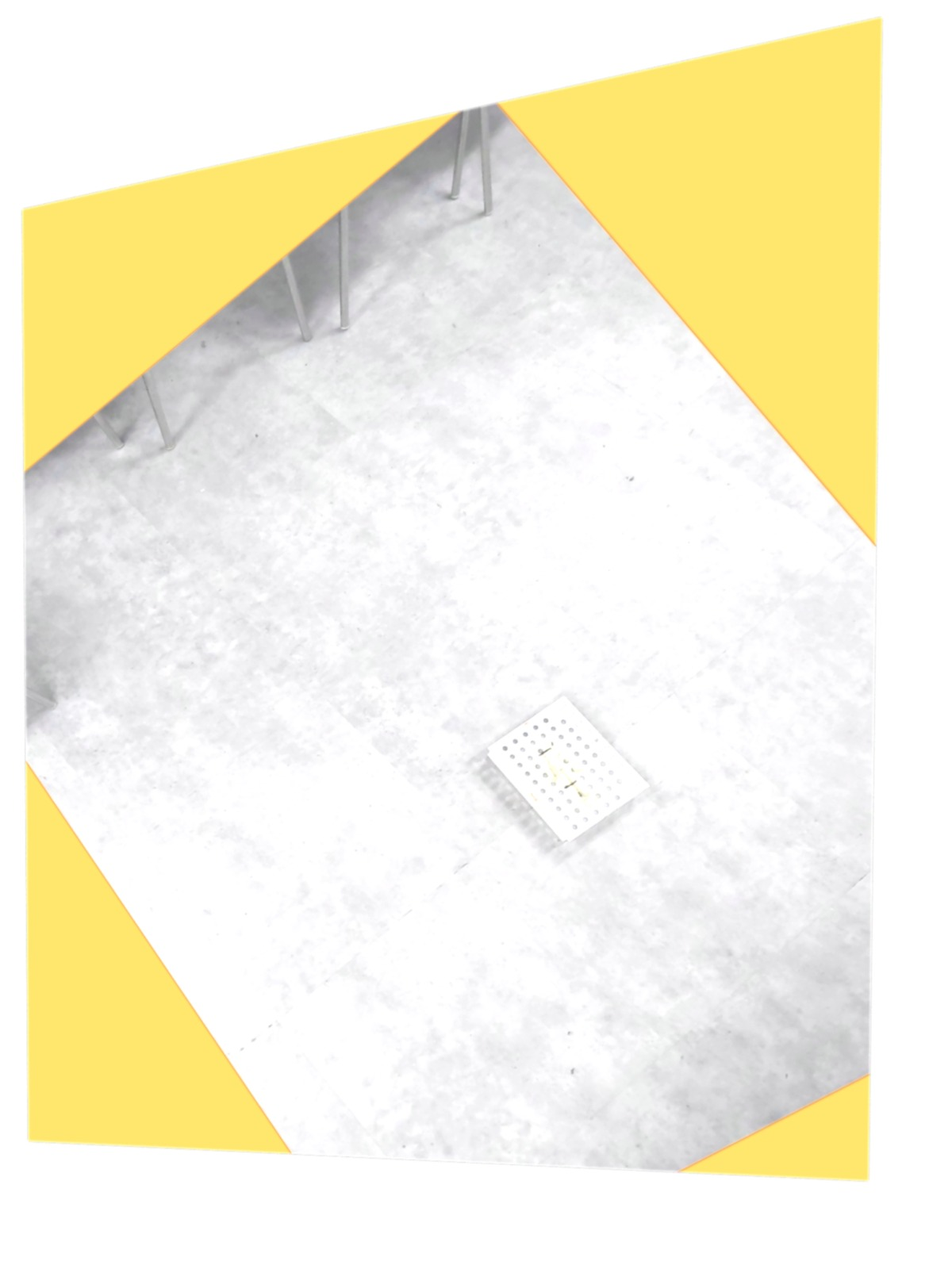basket: (484, 692, 654, 852)
mannequin: (537, 740, 589, 804)
